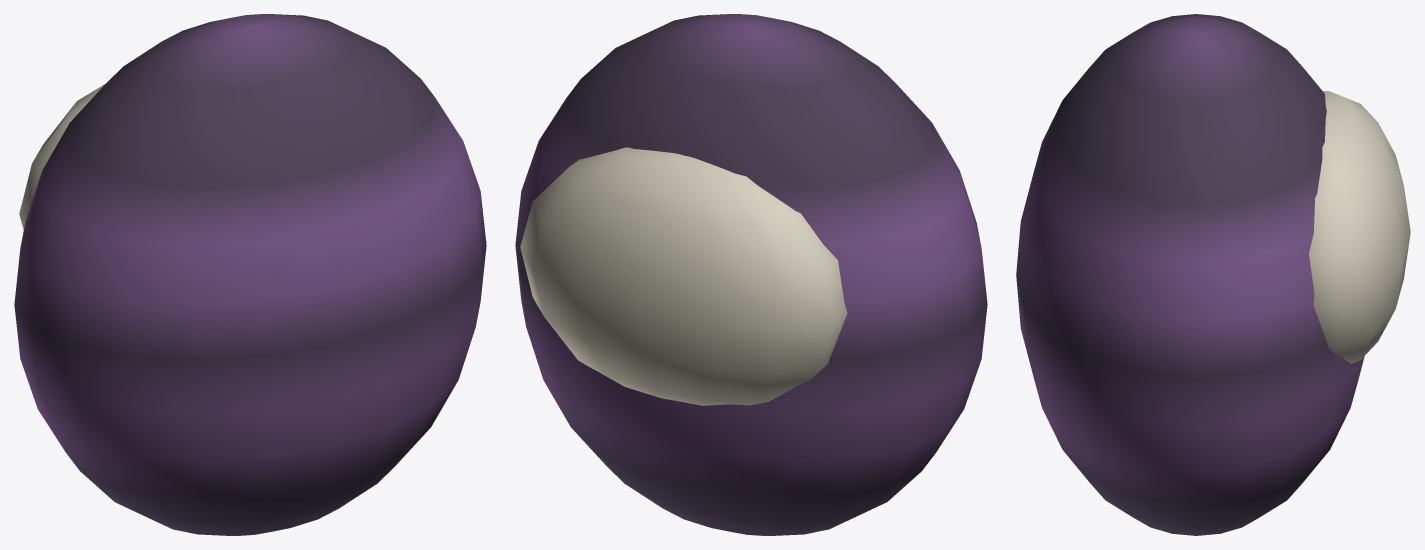
File: torso_bulky.glb
3 views of the same model, side by side, from view 1: azimuth 30°, elevation 25°; view 2: azimuth 150°, elevation 25°; view 3: azimuth 270°, elevation 25° (orthographic). The views are drawn at different scales.
Parts seen in each view (by area): view 1: BulkyTorso, ChestPlate; view 2: BulkyTorso, ChestPlate; view 3: BulkyTorso, ChestPlate.
Part boxes in pixels (left/top/right/bottom): BulkyTorso: left=14, top=14, right=486, bottom=535; ChestPlate: left=19, top=84, right=104, bottom=229; BulkyTorso: left=515, top=14, right=987, bottom=535; ChestPlate: left=520, top=147, right=847, bottom=405; BulkyTorso: left=1016, top=14, right=1364, bottom=535; ChestPlate: left=1309, top=91, right=1410, bottom=363.
Size of the model in its own units: 0.782 by 0.85 by 0.633.
